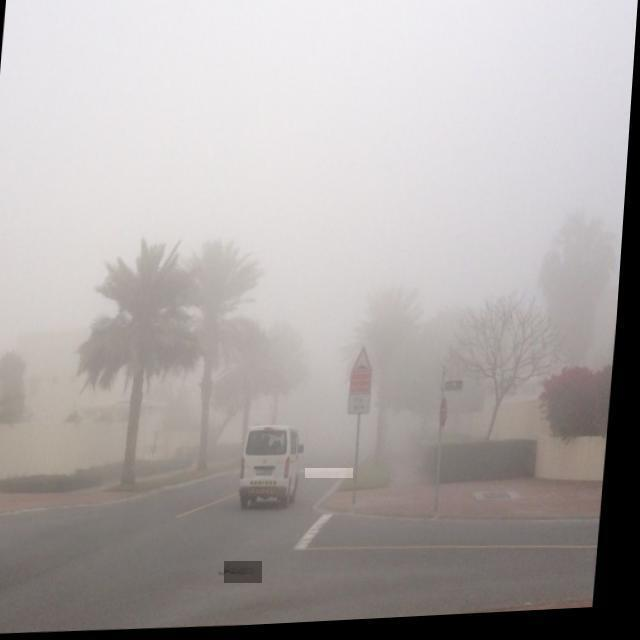Manhole: (224, 562, 262, 584)
Unmarked Bump: (306, 468, 354, 478)
